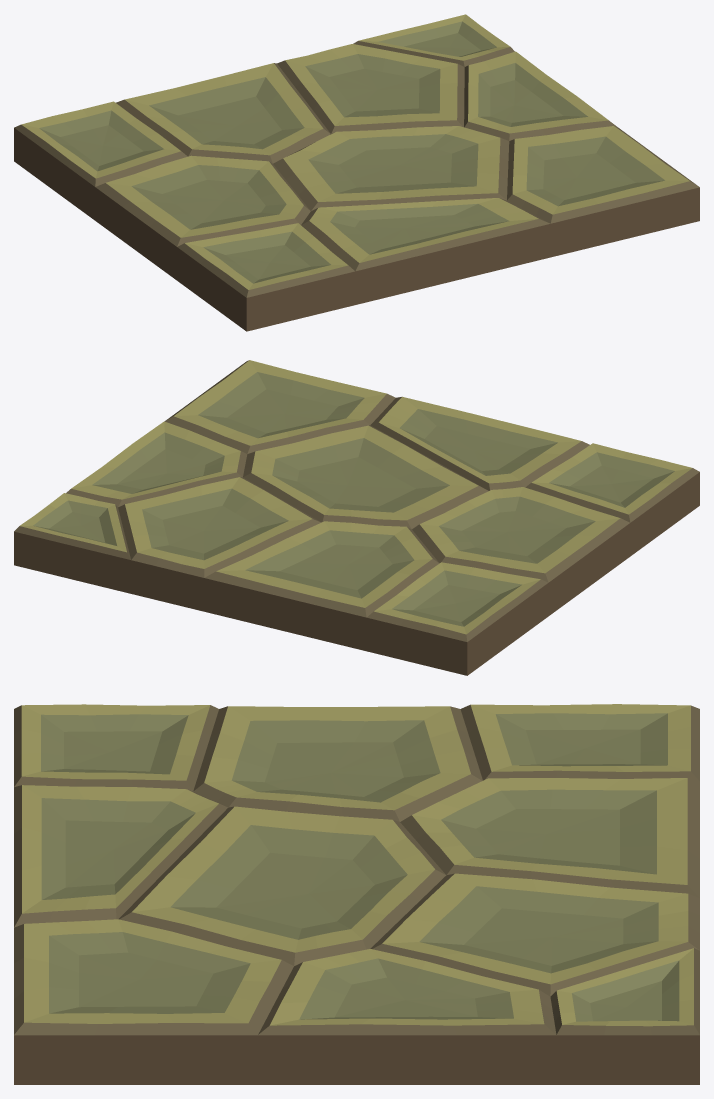
3 views of the same model, one above another, from view 1: azimuth 30°, elevation 25°; view 2: azimuth 150°, elevation 25°; view 3: azimuth 270°, elevation 25° (orthographic). The views are drawn at different scales.
Visible parts, largest first — view 1: continuous_low_centered_polygon_terrain_with_raised_rims; view 2: continuous_low_centered_polygon_terrain_with_raised_rims; view 3: continuous_low_centered_polygon_terrain_with_raised_rims.
Part boxes in pixels (<box>): continuous_low_centered_polygon_terrain_with_raised_rims: <box>14,14,699,331</box>; continuous_low_centered_polygon_terrain_with_raised_rims: <box>14,360,699,675</box>; continuous_low_centered_polygon_terrain_with_raised_rims: <box>14,704,699,1084</box>.
Bounding box in the file's own units: 45 × 3.7 × 40.
